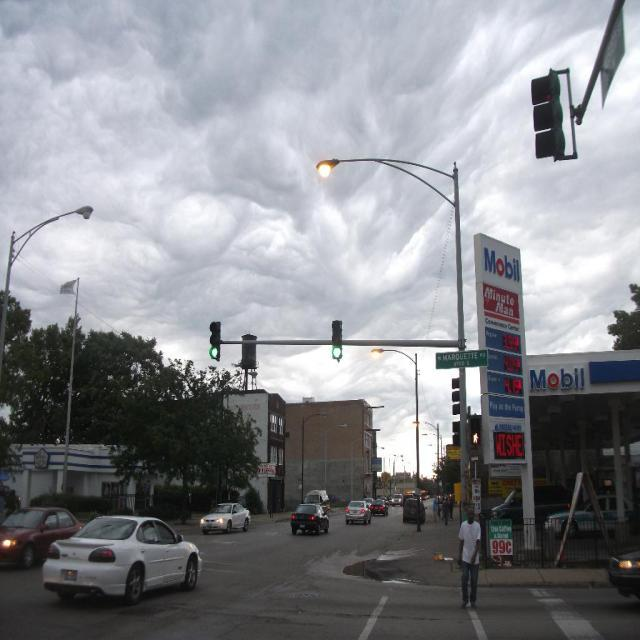off traffic light: (529, 70, 575, 162)
traffic light: (209, 321, 221, 361), (331, 320, 342, 361)
